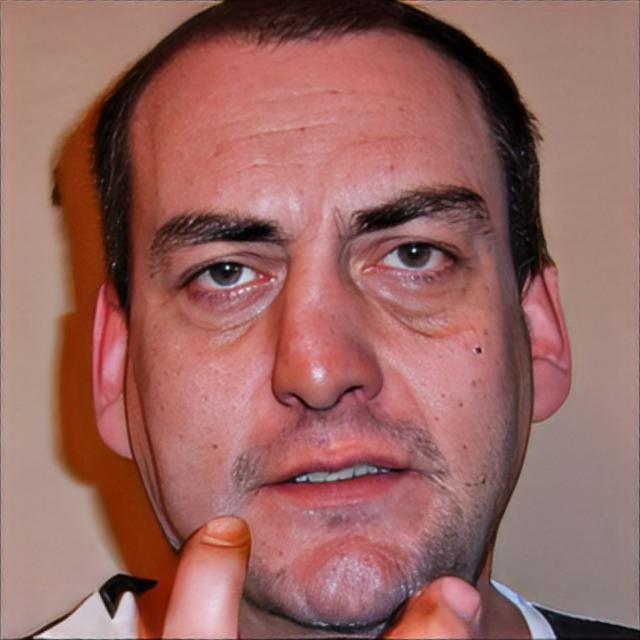anger: (124, 36, 526, 632)
